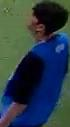blue: (0, 1, 70, 127)
